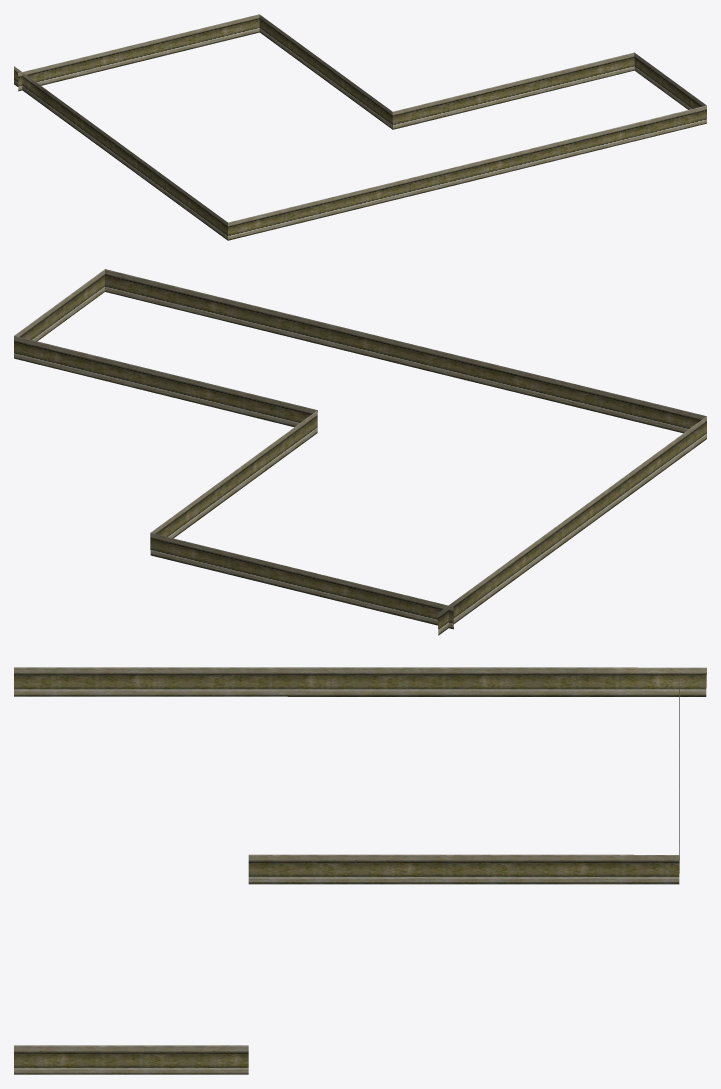
Rendered from CH09_SMAUG_PLAYSURFACE_LAIR99.fbx.
3 renders of one model, top to bottom at view 1: azimuth 30°, elevation 25°; view 2: azimuth 150°, elevation 25°; view 3: azimuth 270°, elevation 25°, orthographic. The views are drawn at different scales.
Visible parts, largest first — view 1: CH09_SMAUG_PLAYSURFACE_LAIR99; view 2: CH09_SMAUG_PLAYSURFACE_LAIR99; view 3: CH09_SMAUG_PLAYSURFACE_LAIR99.
Part boxes in pixels (box(x1,y1,x2,y2)): CH09_SMAUG_PLAYSURFACE_LAIR99: box(14, 14, 706, 240); CH09_SMAUG_PLAYSURFACE_LAIR99: box(14, 269, 706, 635); CH09_SMAUG_PLAYSURFACE_LAIR99: box(14, 667, 706, 1074).
Bounding box in the file's own units: 321160 × 11783 × 246450.
Materials: 1 (1 with a texture image).
